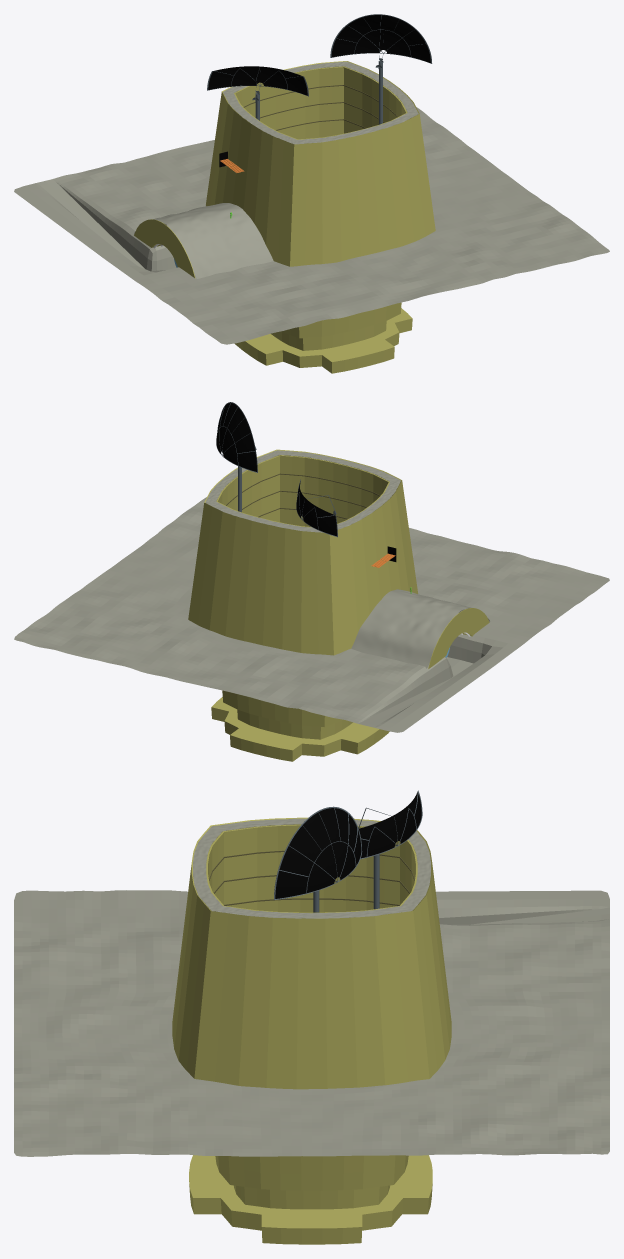
The model's file is polar_hab.glb.
The picture shows the model from 3 angles, top to bottom: view 1: azimuth 30°, elevation 25°; view 2: azimuth 150°, elevation 25°; view 3: azimuth 270°, elevation 25°; orthographic projection. The views are drawn at different scales.
Parts seen in each view (by area): view 1: Ground, HabWalls, PiledRegolith, MIrrorDish, RammedWallFill, MIrrorDish.001, ModuleCover, MirrorInfrastructure; view 2: Ground, HabWalls, PiledRegolith, RammedWallFill, MIrrorDish, ModuleCover, MIrrorDish.001; view 3: Ground, HabWalls, MIrrorDish, RammedWallFill, MIrrorDish.001, MirrorInfrastructure.
Part boxes in pixels (box(x1,y1,x2,y2)): Ground: box(14, 107, 609, 344); HabWalls: box(206, 61, 435, 373); PiledRegolith: box(134, 203, 273, 278); MIrrorDish: box(331, 15, 430, 63); RammedWallFill: box(223, 61, 418, 144); MIrrorDish.001: box(208, 66, 307, 95); ModuleCover: box(134, 219, 195, 278); MirrorInfrastructure: box(330, 14, 432, 68); Ground: box(14, 497, 609, 732); HabWalls: box(188, 449, 418, 761); PiledRegolith: box(351, 589, 489, 668); RammedWallFill: box(205, 450, 400, 532); MIrrorDish: box(216, 403, 256, 471); ModuleCover: box(428, 608, 489, 668); MIrrorDish.001: box(296, 481, 336, 536); Ground: box(14, 890, 609, 1156); HabWalls: box(172, 817, 451, 1244); MIrrorDish: box(275, 808, 361, 898); RammedWallFill: box(193, 818, 430, 918); MIrrorDish.001: box(359, 792, 421, 858); MirrorInfrastructure: box(274, 806, 362, 900).
Bounding box in the file's own units: 105 × 78.63 × 100.
